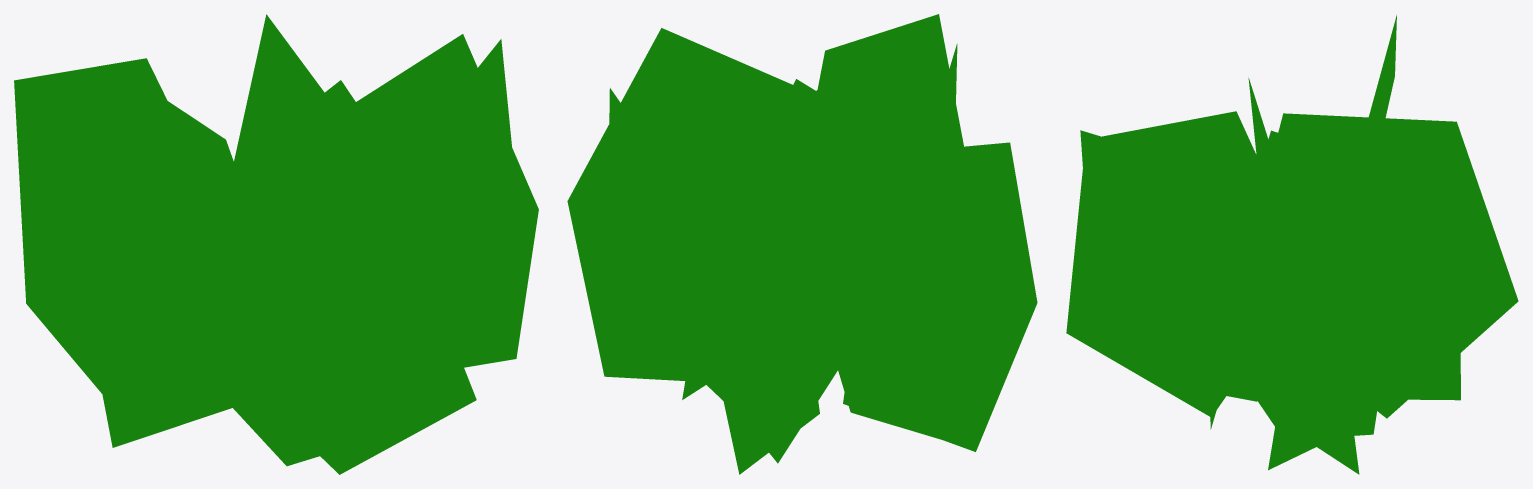
File: FungiCoral_2.fbx
3 renders of one model, left to right at view 1: azimuth 30°, elevation 25°; view 2: azimuth 150°, elevation 25°; view 3: azimuth 270°, elevation 25°, orthographic. The views are drawn at different scales.
Parts seen in each view (by area): view 1: FungiCoral_2; view 2: FungiCoral_2; view 3: FungiCoral_2.
Boxes of the visible parts, x1,y1,x2,y2 form: FungiCoral_2: (14, 14, 538, 474); FungiCoral_2: (567, 14, 1037, 474); FungiCoral_2: (1066, 15, 1518, 474).
Bounding box in the file's own units: 26.49 × 19.31 × 25.25.
